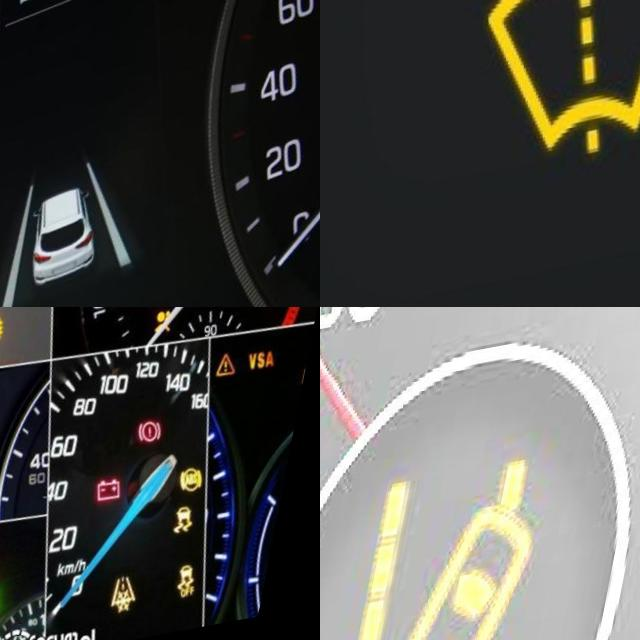Seat Belt: (153, 307, 177, 321)
Washer Fluid: (474, 0, 640, 193)
